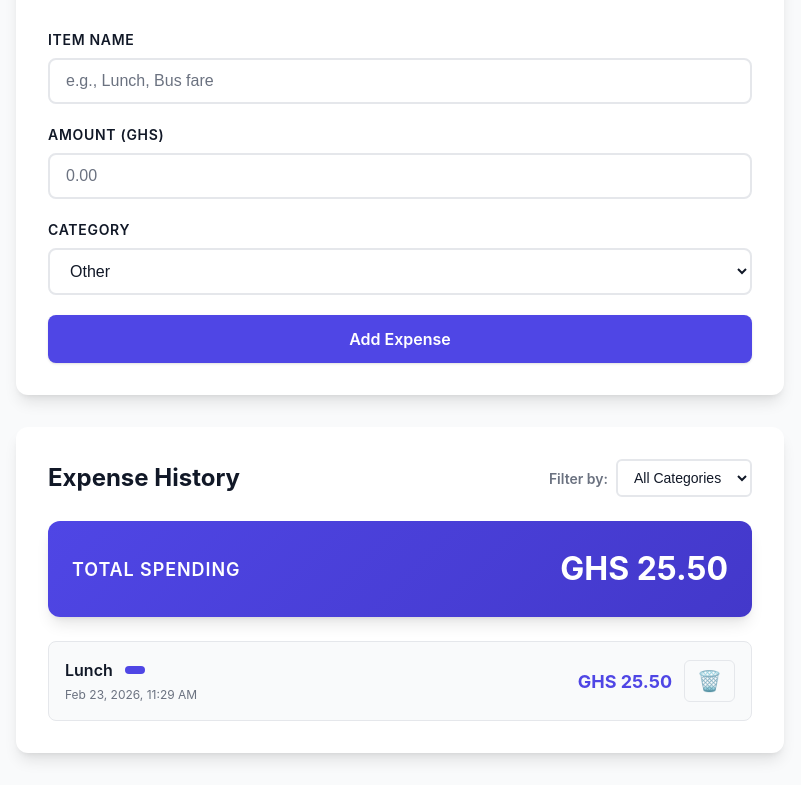
Scenario: User Story 4: Delete Expense - Frontend UI › Error handling › should display error message if deletion fails
(page scrolled)
Expected: the text "Lunch" is shown, [65, 658, 113, 682]
Click the button named "delete lunch". click: (710, 681)
box: [684, 660, 735, 702]
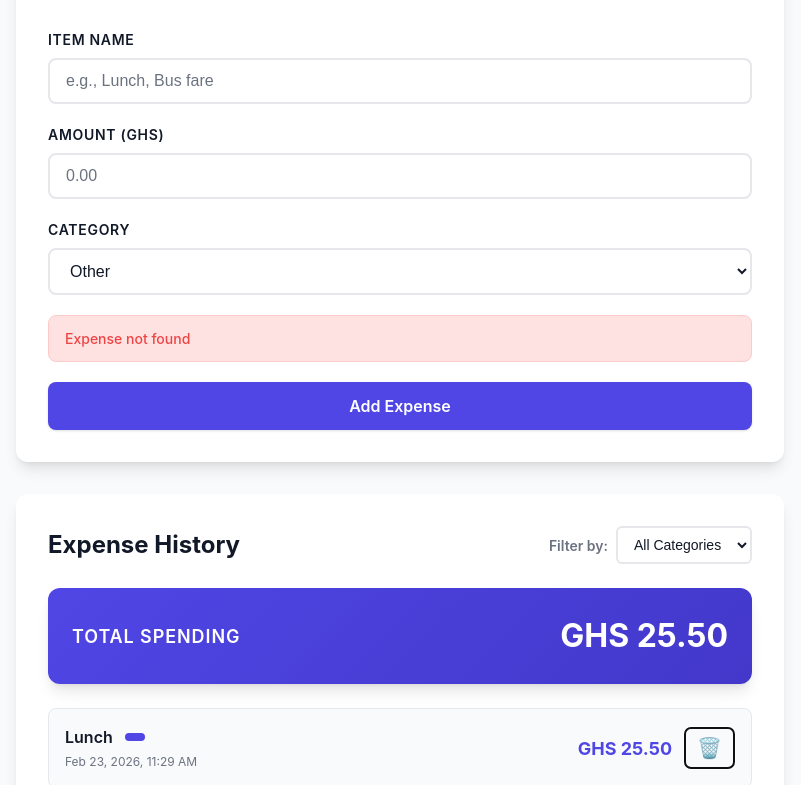
Expected: the text "Expense not found" is shown, [48, 315, 752, 362]
